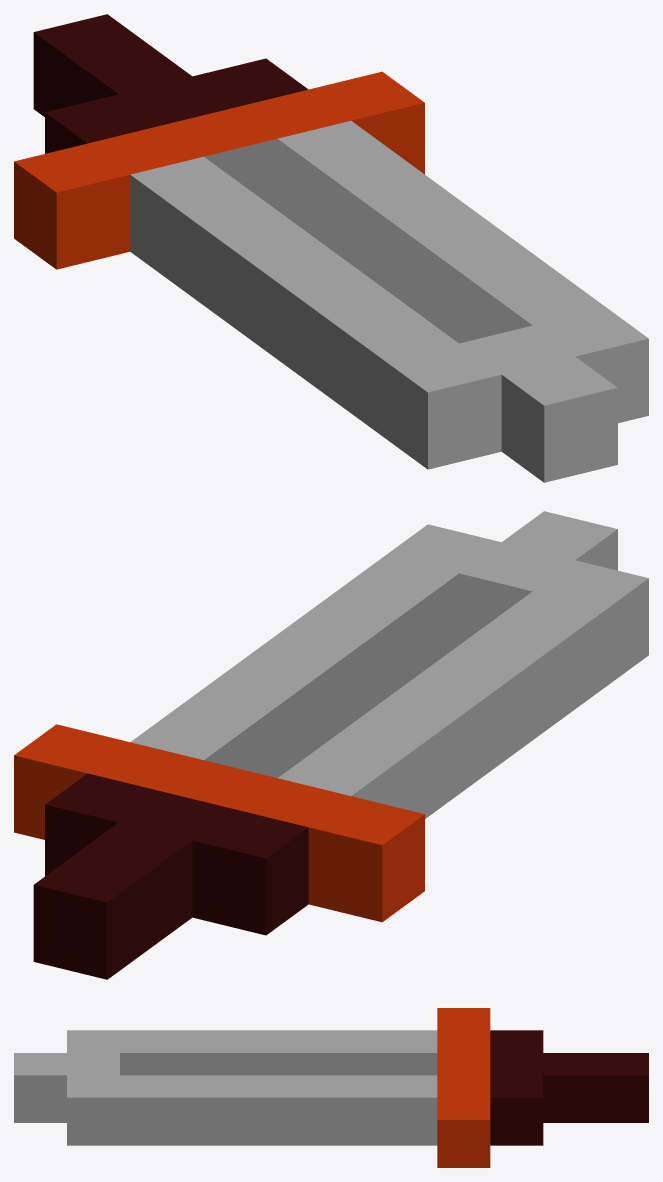
The model's file is Steel Sword.obj.
3 renders of one model, top to bottom at view 1: azimuth 30°, elevation 25°; view 2: azimuth 150°, elevation 25°; view 3: azimuth 270°, elevation 25°, orthographic. The views are drawn at different scales.
Size of the model in its own units: 5 by 1 by 12.
Materials: 1 (1 with a texture image).
